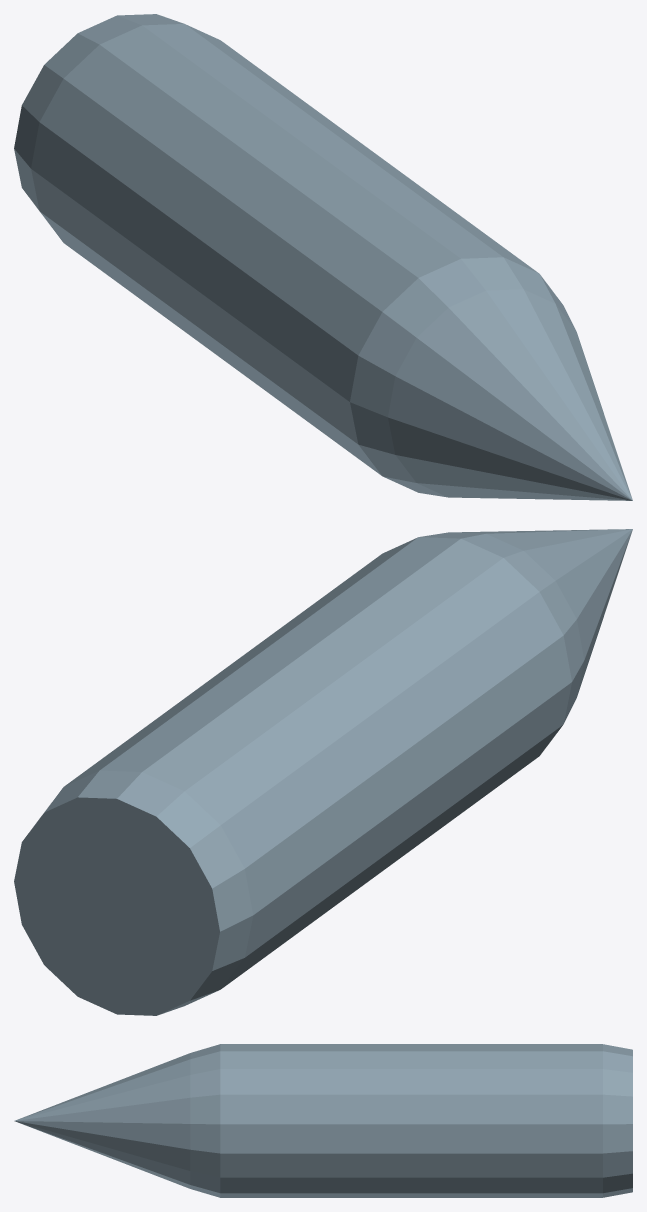
File: NailgunBlue_Evolved_Nail.obj
3 renders of one model, top to bottom at view 1: azimuth 30°, elevation 25°; view 2: azimuth 150°, elevation 25°; view 3: azimuth 270°, elevation 25°, orthographic. The views are drawn at different scales.
Visible parts, largest first — view 1: NailgunBlue_Evolved_Nail; view 2: NailgunBlue_Evolved_Nail; view 3: NailgunBlue_Evolved_Nail.
Part boxes in pixels (left/top/right/bottom): NailgunBlue_Evolved_Nail: left=14, top=14, right=632, bottom=500; NailgunBlue_Evolved_Nail: left=14, top=529, right=632, bottom=1015; NailgunBlue_Evolved_Nail: left=14, top=1044, right=632, bottom=1197.
Bounding box in the file's own units: 0.138 × 0.138 × 0.555.
